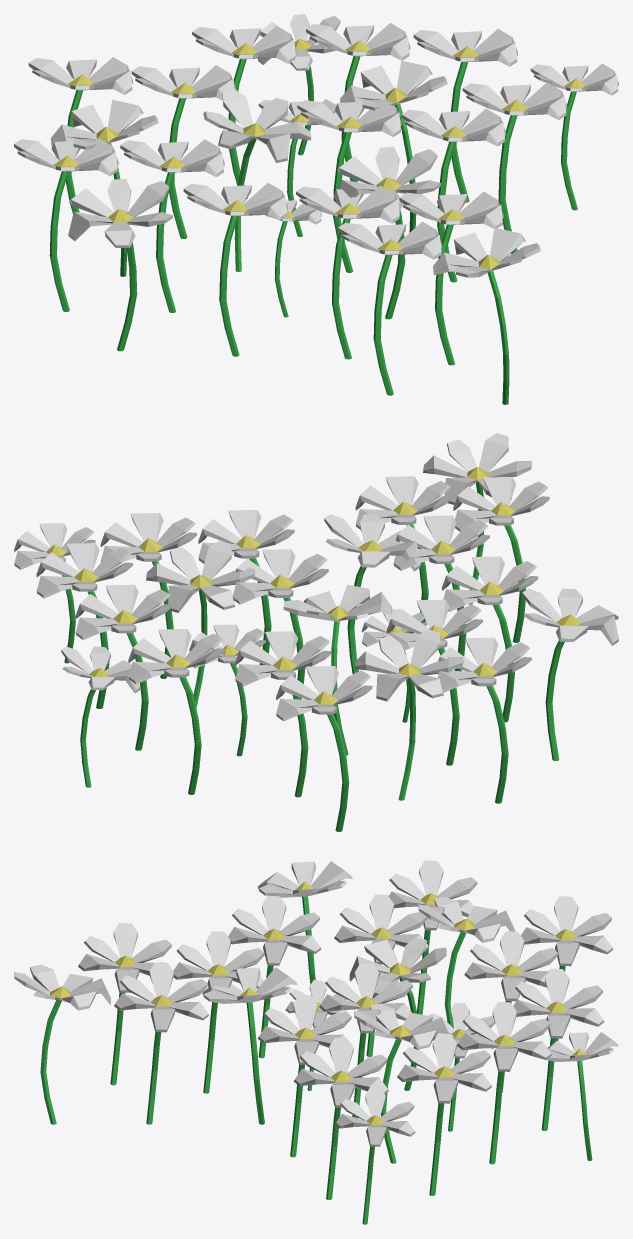
The model's file is flower_patch.fbx.
3 views of the same model, one above another, from view 1: azimuth 30°, elevation 25°; view 2: azimuth 150°, elevation 25°; view 3: azimuth 270°, elevation 25° (orthographic). The views are drawn at different scales.
Parts seen in each view (by area): view 1: mesh17, mesh08, mesh15, mesh03, mesh09, mesh14, mesh18, mesh01, mesh10, mesh24, mesh06, mesh23 (+12 smaller); view 2: mesh13, mesh16, mesh19, mesh20, mesh17, mesh21, mesh09, mesh12, mesh18, mesh14, mesh23, mesh15 (+12 smaller); view 3: mesh01, mesh21, mesh23, mesh24, mesh20, mesh09, mesh04, mesh14, mesh06, mesh19, mesh05, mesh15 (+12 smaller).
Part boxes in pixels (x1,y1,x2,y2): mesh17: (68,178,172,351); mesh08: (203,89,311,271); mesh15: (433,227,540,404); mesh03: (336,147,440,319); mesh09: (183,183,287,356); mesh14: (338,221,442,395); mesh18: (14,138,118,311); mesh01: (399,191,503,365); mesh10: (120,139,224,312); mesh24: (462,82,567,253); mesh06: (296,185,400,359); mesh23: (413,29,517,202); mesh13: (354,629,463,800); mesh16: (146,540,254,707); mesh19: (276,666,372,831); mesh20: (128,629,224,794); mesh17: (522,588,618,760); mesh21: (75,584,171,750); mesh09: (441,556,538,722); mesh12: (235,631,331,797); mesh18: (437,637,531,803); mesh14: (453,477,549,642); mesh23: (36,543,132,708); mesh15: (423,433,531,604); mesh01: (114,962,208,1124); mesh21: (457,1001,551,1164); mesh23: (397,1033,491,1195); mesh24: (293,1037,388,1199); mesh20: (513,968,604,1130); mesh09: (228,895,321,1058); mesh04: (258,995,351,1157); mesh14: (78,922,171,1085); mesh06: (173,931,264,1093); mesh19: (521,896,613,1041); mesh05: (319,963,412,1118); mesh15: (14,964,110,1124).
Size of the model in its own units: 35.13 by 9.88 by 35.33.
